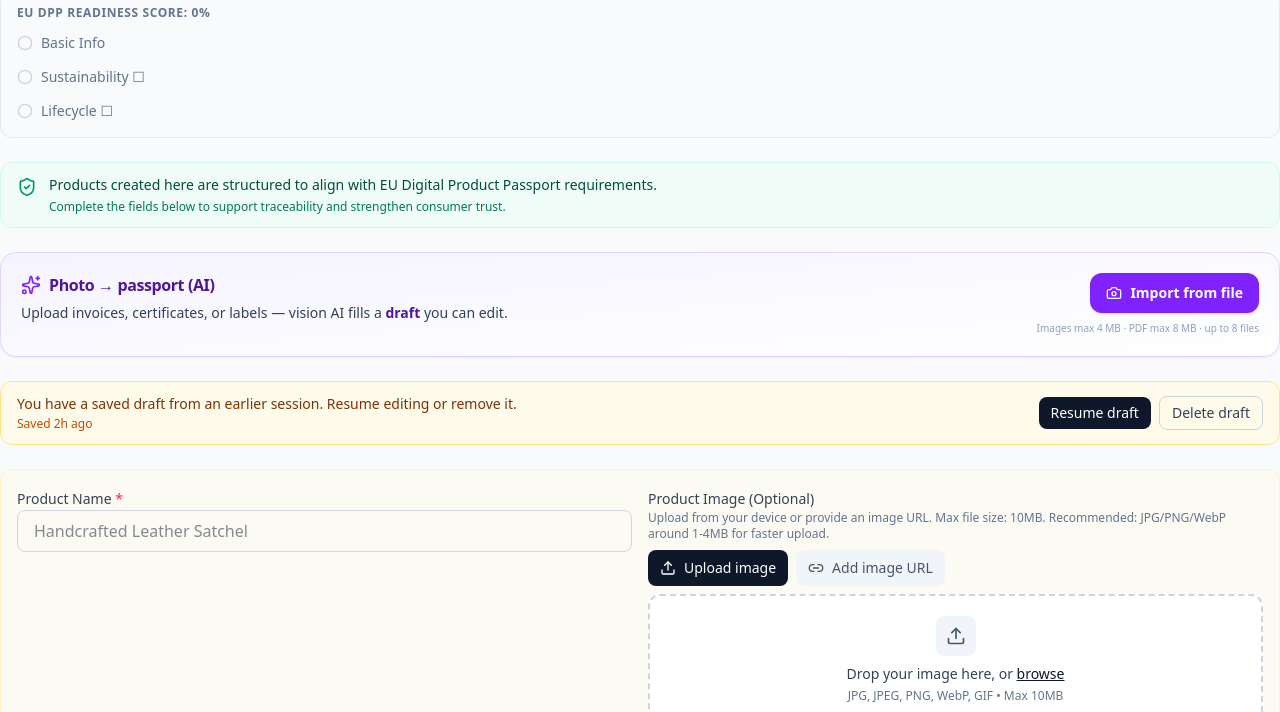
Test: ProductForm › shows pending draft actions and restores when resume is clicked
expect the text "You have a saved draft" is shown: met, box [17,394,517,413]
expect the text "Saved 2h ago" is shown: met, box [17,415,92,432]
Click the button "Resume draft".
click(1095, 413)  # box [1038,397,1151,429]
(page scrolled)
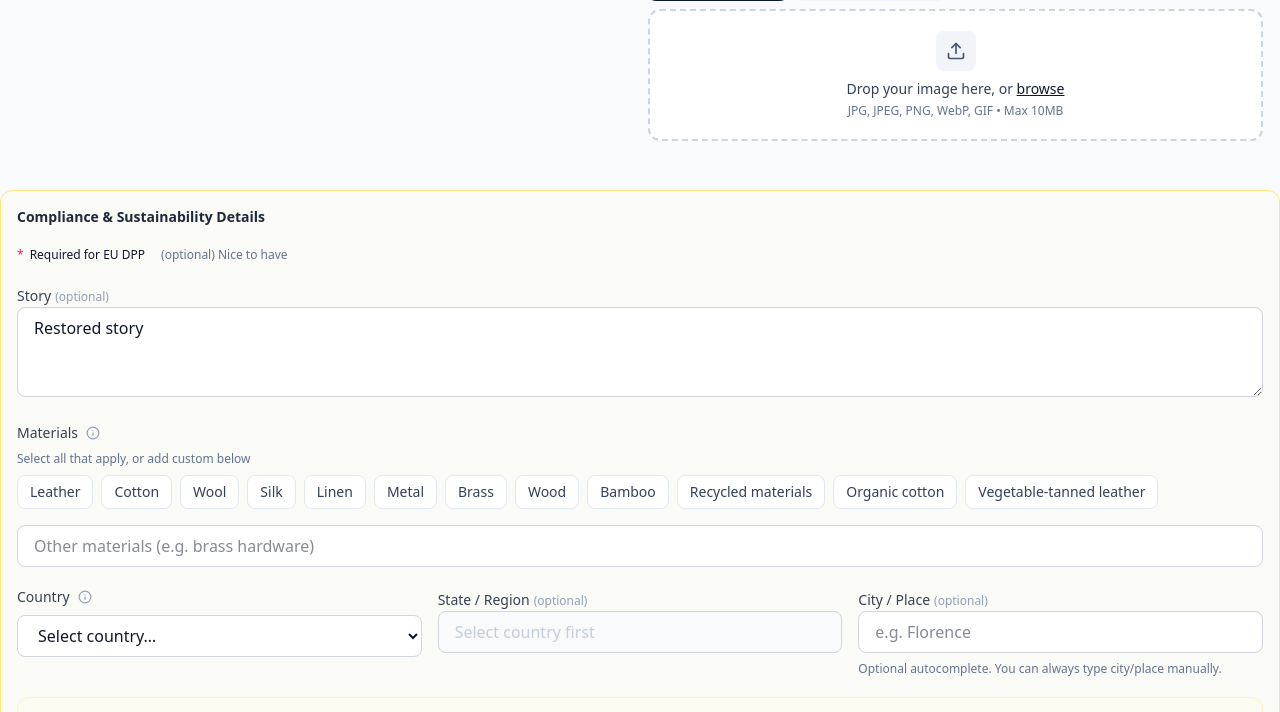
expect the text box showing "Restored story" is shown: met, box [17,307,1263,397]
